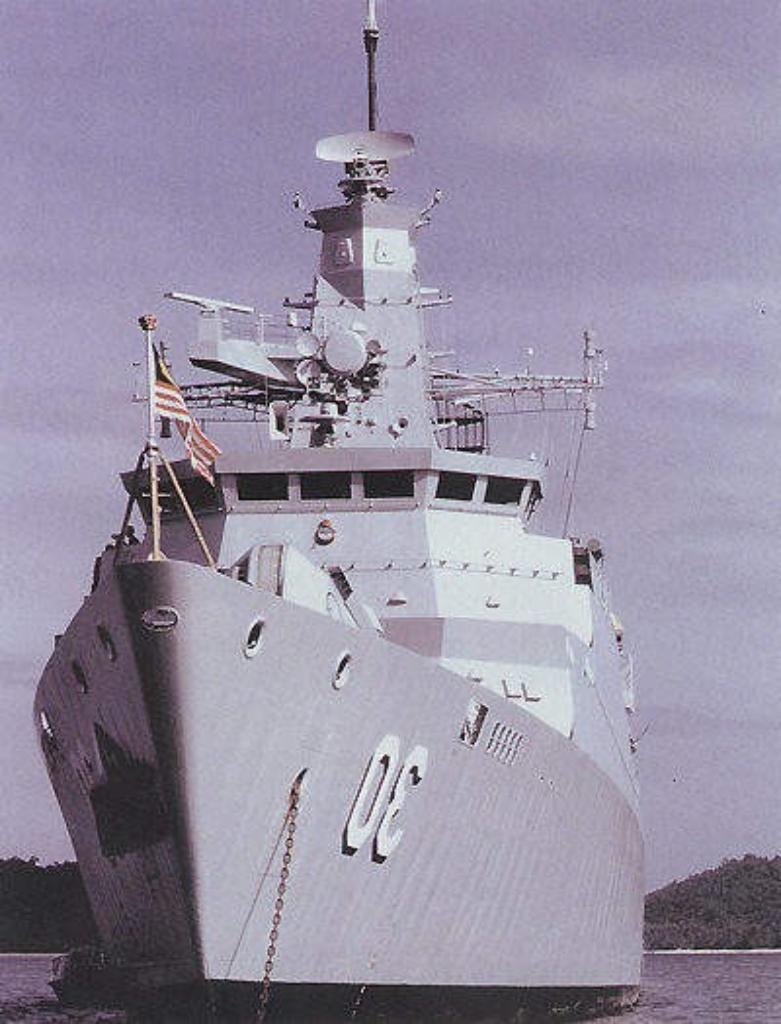Warship: (25, 0, 679, 1018)
